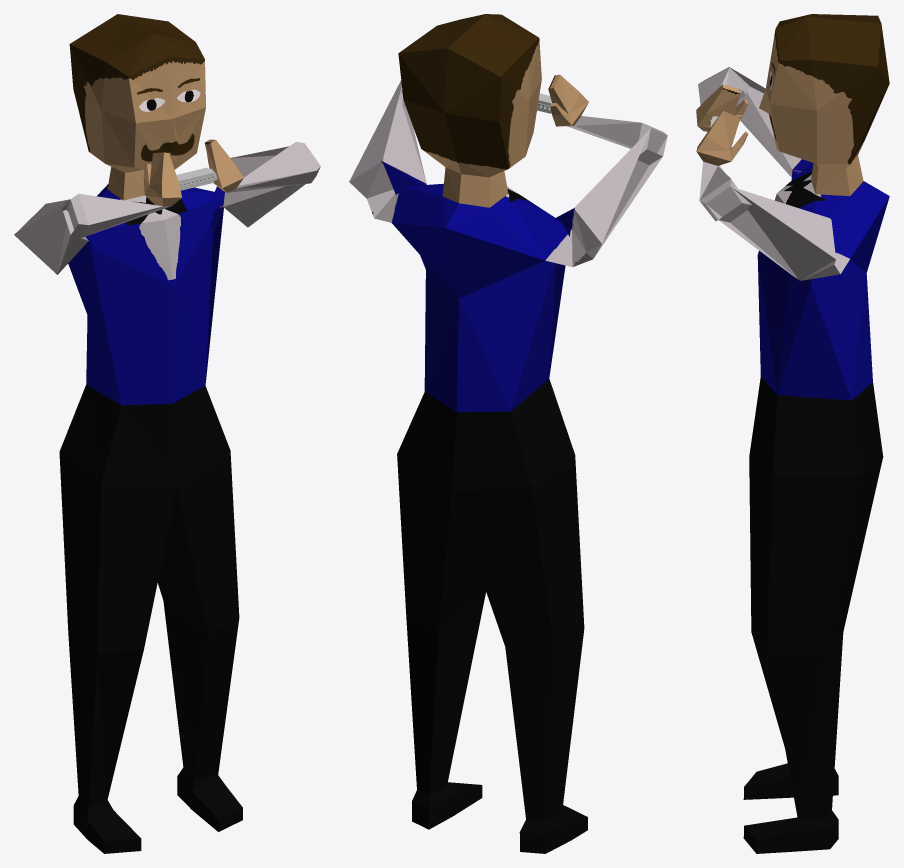
The model's file is harmonicaplayer.obj.
The picture shows the model from 3 angles, left to right: view 1: azimuth 30°, elevation 25°; view 2: azimuth 150°, elevation 25°; view 3: azimuth 270°, elevation 25°; orthographic projection. The views are drawn at different scales.
Parts seen in each view (by area): view 1: Cube, Cube.001; view 2: Cube; view 3: Cube.
Boxes of the visible parts, x1,y1,x2,y2 form: Cube: [14, 14, 320, 853]; Cube.001: [176, 167, 217, 190]; Cube: [349, 14, 667, 853]; Cube: [696, 14, 889, 853].
Size of the model in its own units: 0.588 by 1.79 by 0.3898.
